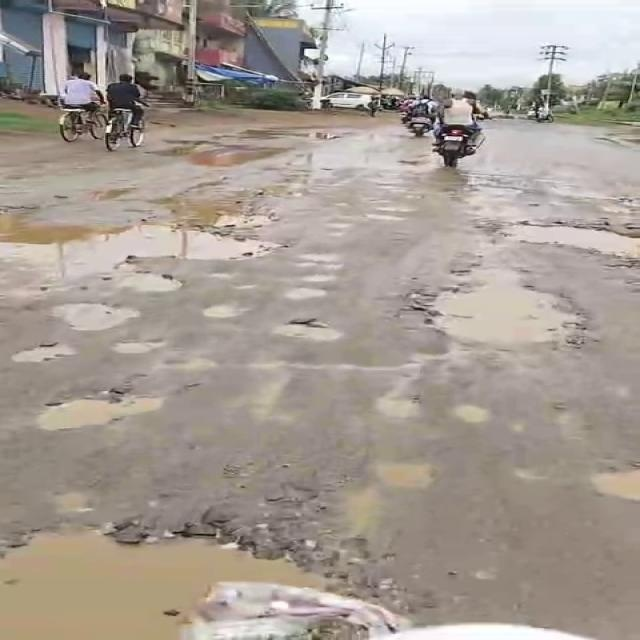pothole: (0, 184, 309, 313), (0, 530, 364, 639), (401, 222, 639, 353), (29, 396, 153, 430), (47, 300, 135, 331), (376, 463, 439, 491), (592, 471, 639, 502), (9, 342, 71, 363), (272, 323, 343, 341), (449, 404, 489, 427), (197, 302, 239, 321), (288, 286, 324, 298)
